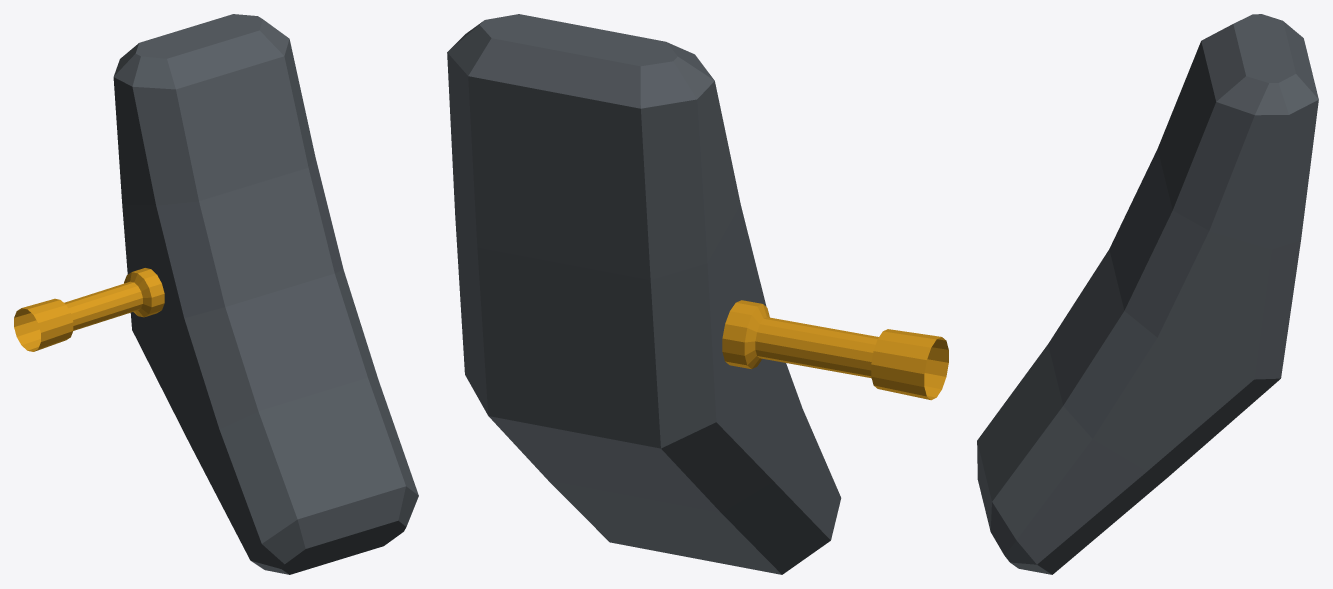
Rendered from Personal_Vehicle_04_Detail_2_Yellow.fbx.
The picture shows the model from 3 angles, left to right: view 1: azimuth 30°, elevation 25°; view 2: azimuth 150°, elevation 25°; view 3: azimuth 270°, elevation 25°; orthographic projection. The views are drawn at different scales.
Parts seen in each view (by area): view 1: Personal_Vehicle_04_Detail_2_Yellow; view 2: Personal_Vehicle_04_Detail_2_Yellow; view 3: Personal_Vehicle_04_Detail_2_Yellow.
Boxes of the visible parts, x1=… form: Personal_Vehicle_04_Detail_2_Yellow: x1=14, y1=14, x2=418, y2=574; Personal_Vehicle_04_Detail_2_Yellow: x1=447, y1=14, x2=948, y2=574; Personal_Vehicle_04_Detail_2_Yellow: x1=977, y1=14, x2=1318, y2=574.
Size of the model in its own units: 21.66 by 28.89 by 18.4.
Materials: 1 (1 with a texture image).
